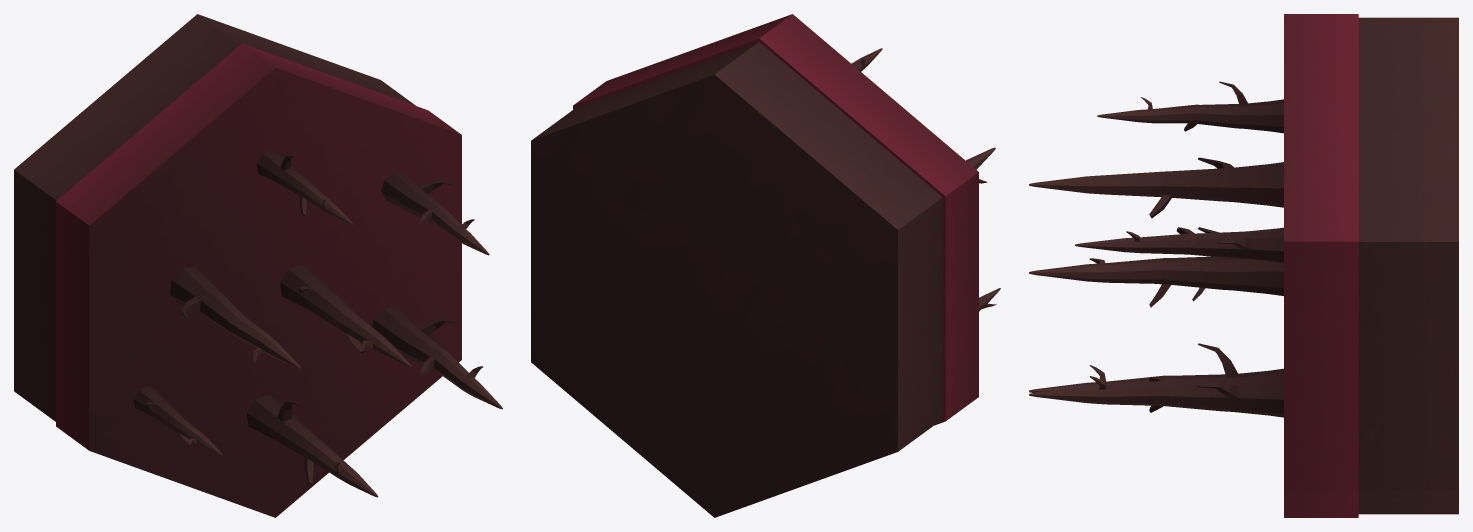
The model's file is NADELWALD_B_DEAD.fbx.
3 views of the same model, side by side, from view 1: azimuth 30°, elevation 25°; view 2: azimuth 150°, elevation 25°; view 3: azimuth 270°, elevation 25° (orthographic). The views are drawn at different scales.
Parts seen in each view (by area): view 1: NADELWALD_B_DEAD; view 2: NADELWALD_B_DEAD; view 3: NADELWALD_B_DEAD.
Part boxes in pixels (x1,y1,x2,y2): NADELWALD_B_DEAD: [14, 14, 502, 517]; NADELWALD_B_DEAD: [531, 14, 1000, 517]; NADELWALD_B_DEAD: [1029, 14, 1458, 517].
Bounding box in the file's own units: 172 × 199 × 154.
